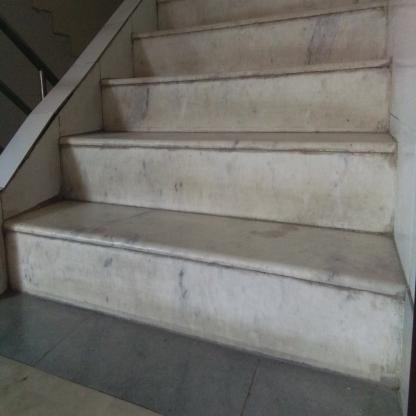stairs: (124, 32, 368, 383)
